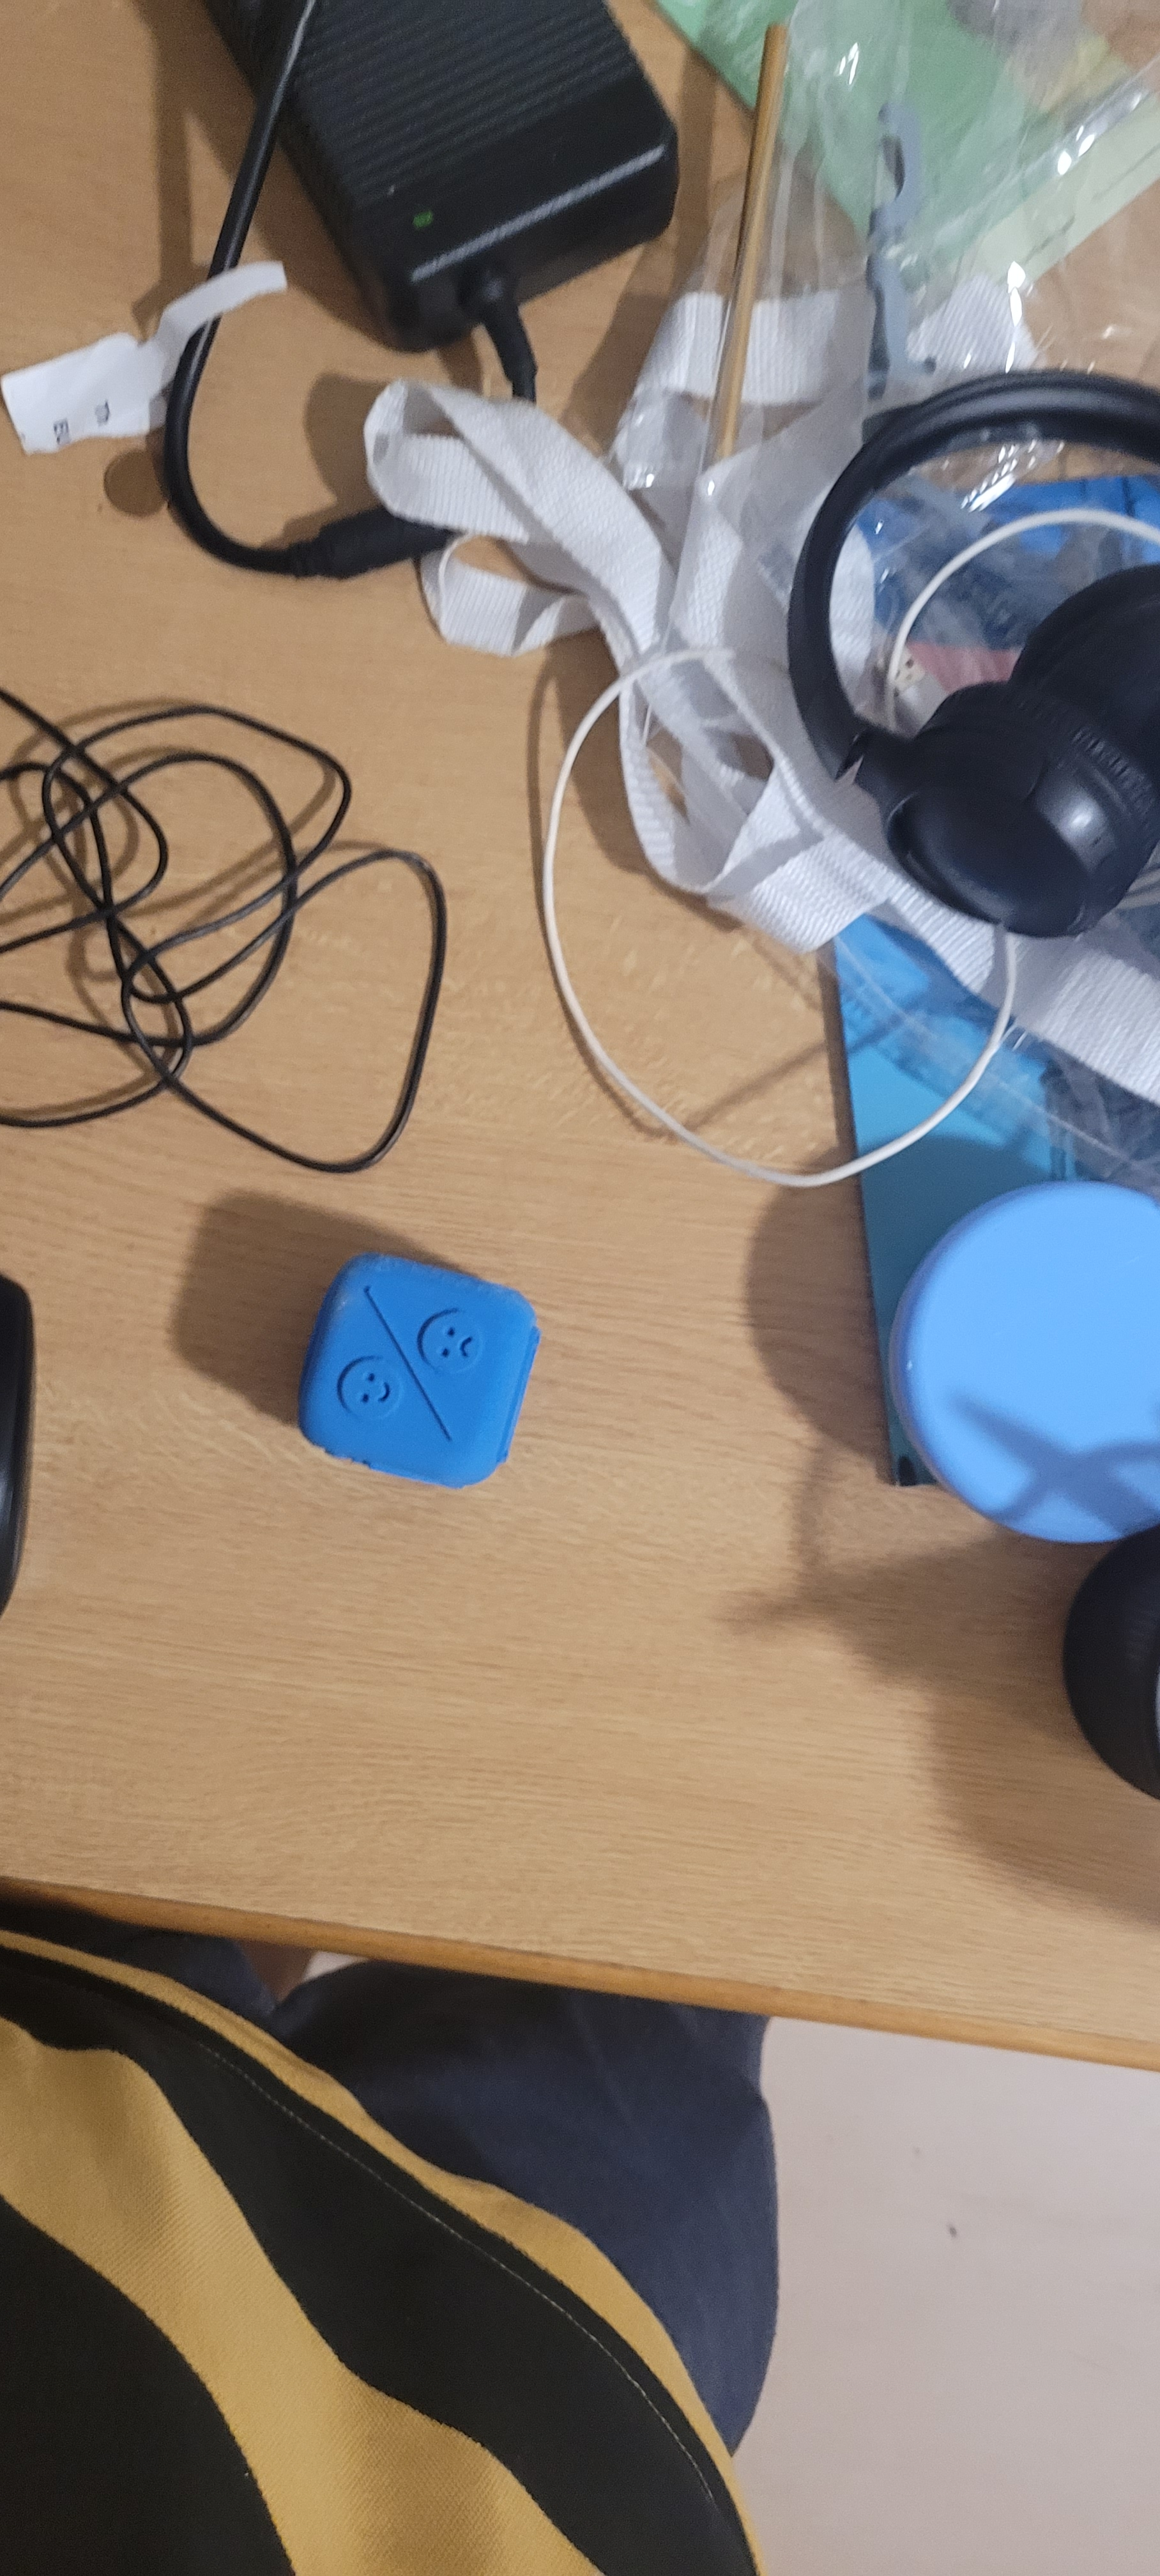Like/Dislike: (314, 1252, 526, 1447)
